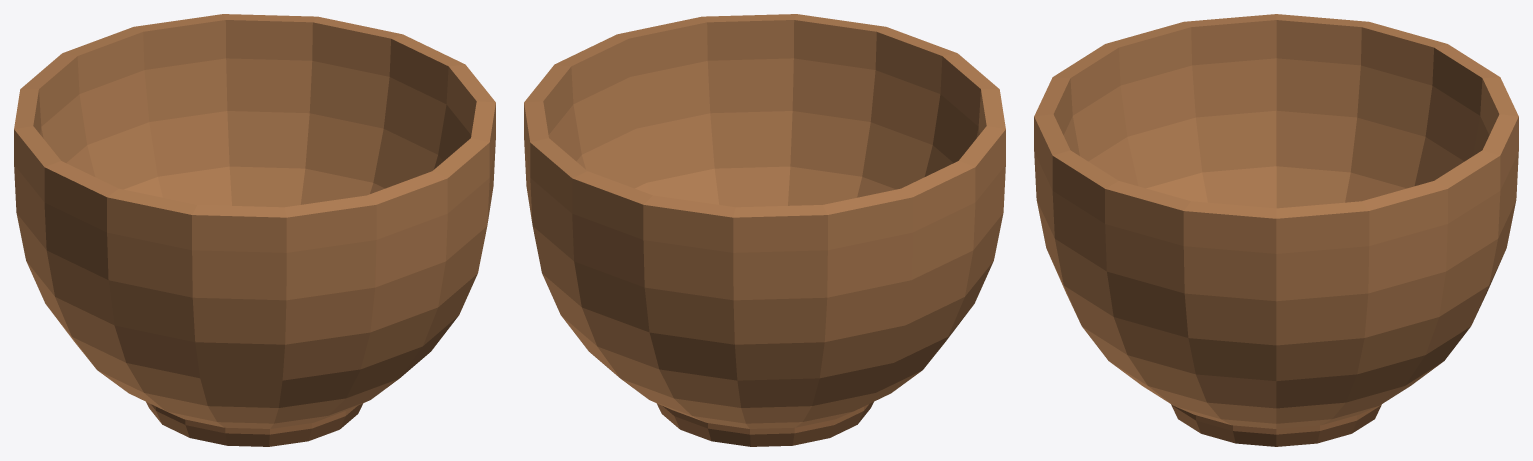
3 renders of one model, left to right at view 1: azimuth 30°, elevation 25°; view 2: azimuth 150°, elevation 25°; view 3: azimuth 270°, elevation 25°, orthographic.
Visible parts, largest first — view 1: Bowl, Bowl_Foot; view 2: Bowl, Bowl_Foot; view 3: Bowl, Bowl_Foot.
Part boxes in pixels (x1,y1,x2,y2): Bowl: (14, 14, 495, 428); Bowl_Foot: (146, 402, 362, 446); Bowl: (524, 14, 1005, 428); Bowl_Foot: (657, 402, 873, 446); Bowl: (1034, 14, 1518, 428); Bowl_Foot: (1171, 404, 1381, 446).
Size of the model in its own units: 0.2 by 0.133 by 0.2.
